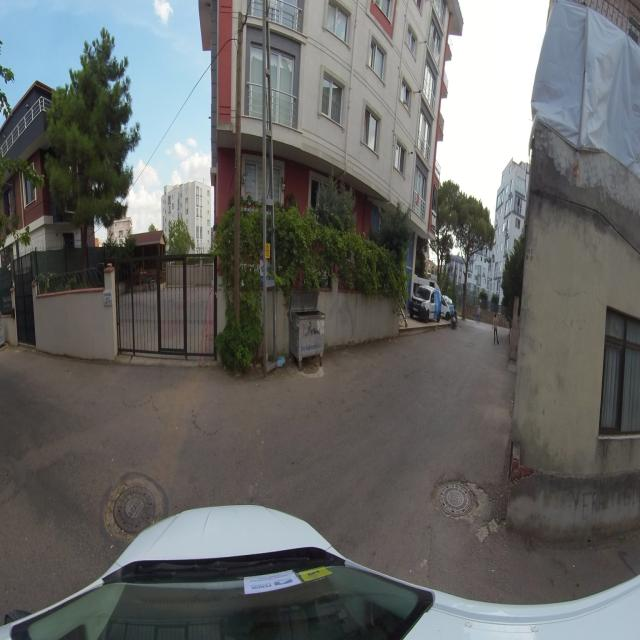Utility Pole Information Plate: (264, 243, 270, 259)
